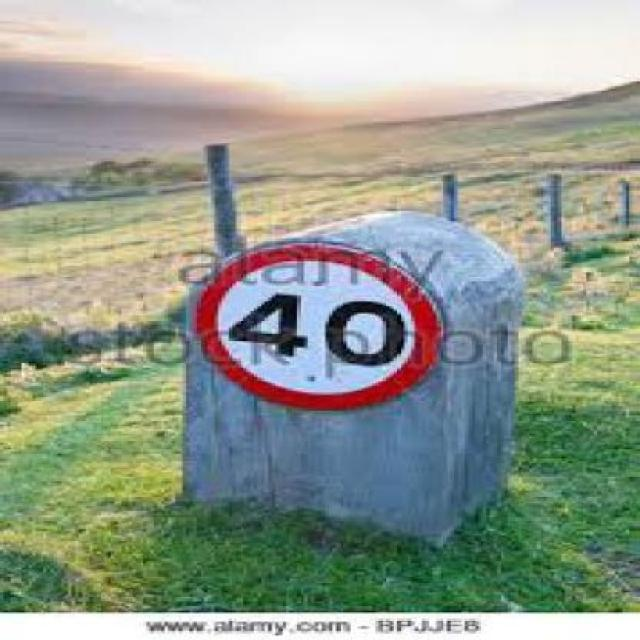forb_speed_over_40: (200, 248, 432, 406)
